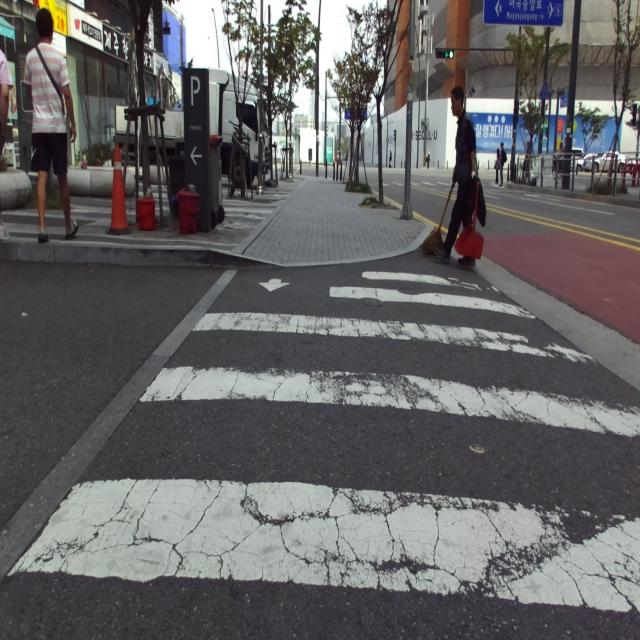횡단보도: (7, 271, 640, 614)
